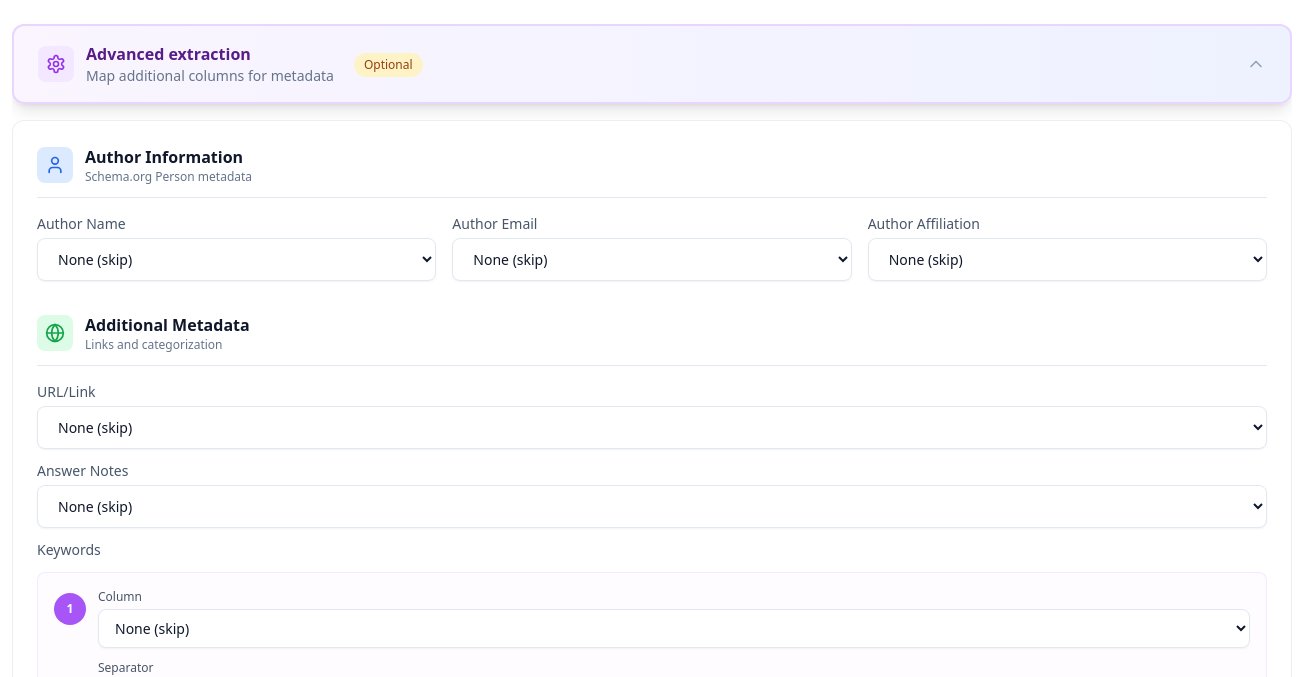
AdvancedExtractionPanel › shows preview data for selected columns
# Select author name column
Select "Author_Name" in the dropdown labelled "Author Name": (237, 260) [37, 238, 436, 281]
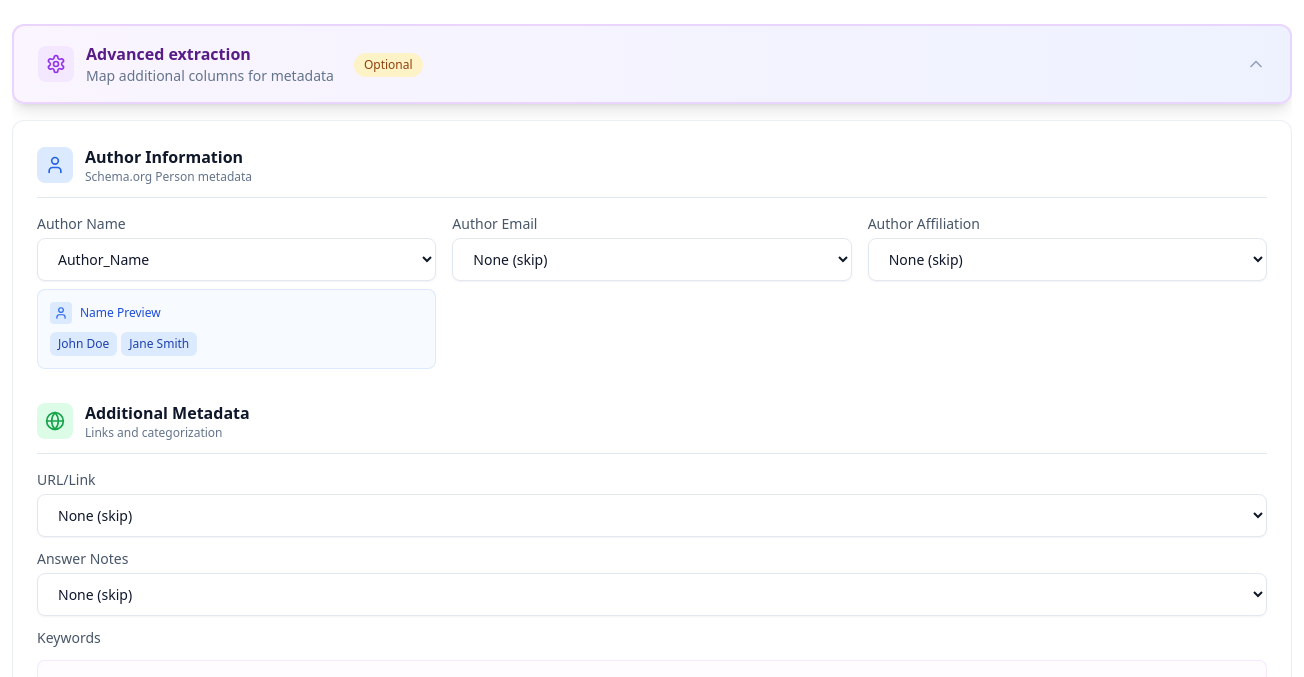
Check: the text "John Doe" is shown, box [50, 332, 117, 356]
Check: the text "Jane Smith" is shown, box [121, 332, 197, 356]
